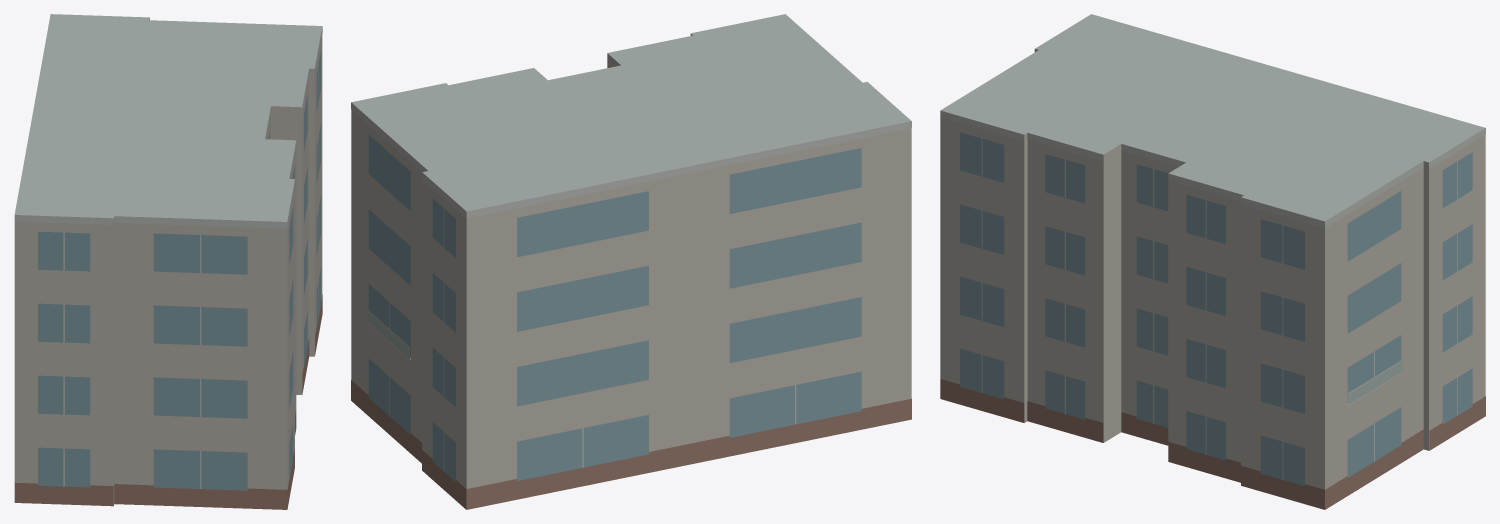
The model's file is survey-upis-33023514.glb.
3 renders of one model, left to right at view 1: azimuth 30°, elevation 25°; view 2: azimuth 150°, elevation 25°; view 3: azimuth 270°, elevation 25°, orthographic. The views are drawn at different scales.
Parts seen in each view (by area): view 1: survey-upis-33023514.tmp; view 2: survey-upis-33023514.tmp; view 3: survey-upis-33023514.tmp.
Boxes of the visible parts, left/top/right/bottom form: survey-upis-33023514.tmp: left=14, top=14, right=322, bottom=509; survey-upis-33023514.tmp: left=351, top=14, right=911, bottom=509; survey-upis-33023514.tmp: left=940, top=14, right=1485, bottom=509.
Size of the model in its own units: 16.06 by 10.4 by 17.84.
